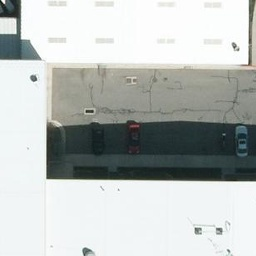car: (91, 121, 106, 155), (127, 120, 140, 154), (236, 123, 249, 157)
